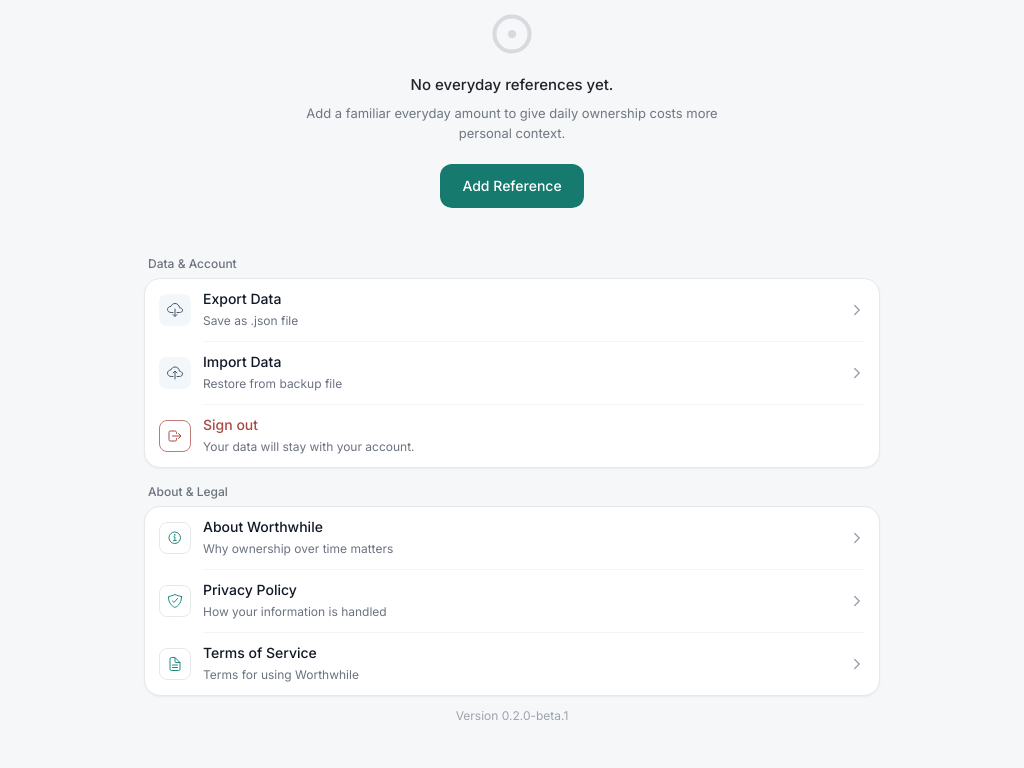
Test: Settings component › displays sign out error message when sign out fails
(page scrolled)
Step 1. Click the button "Sign out" → (175, 436), box [145,405,879,467]
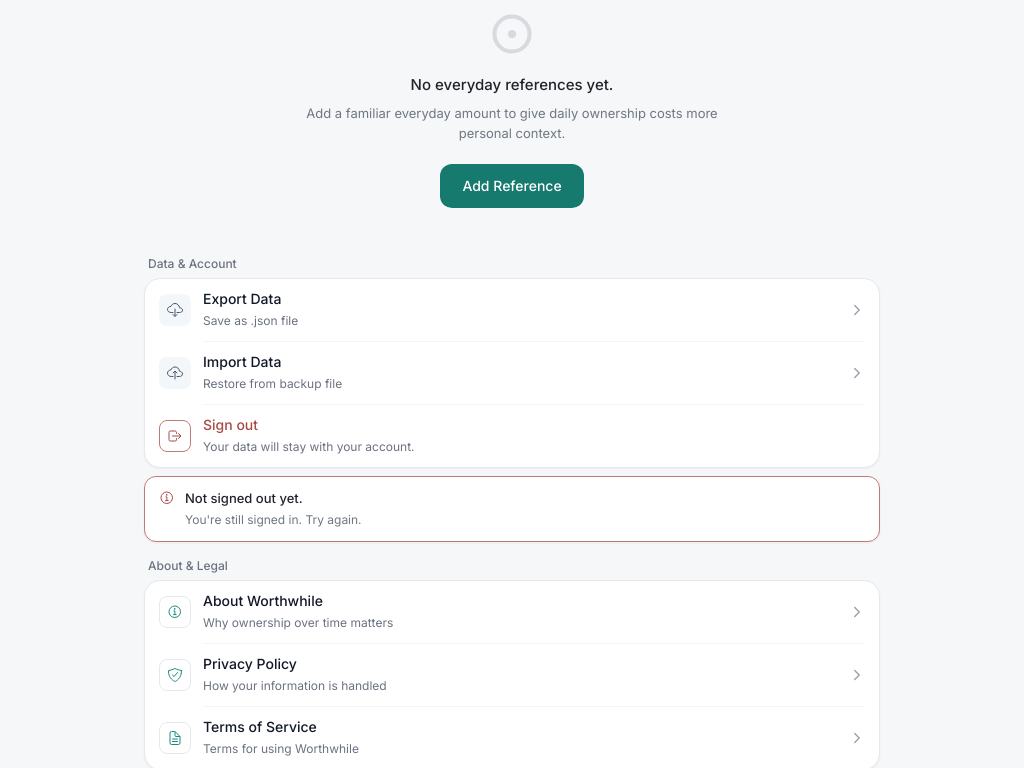
Result: the message shows "You're still signed in. Try again." at [185,512,362,527]
